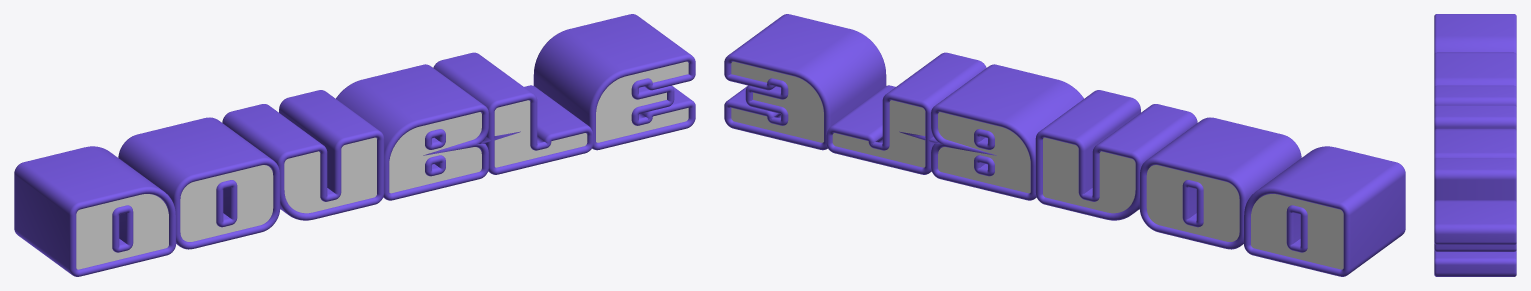
The model's file is double.fbx.
The picture shows the model from 3 angles, left to right: view 1: azimuth 30°, elevation 25°; view 2: azimuth 150°, elevation 25°; view 3: azimuth 270°, elevation 25°; orthographic projection. The views are drawn at different scales.
Visible parts, largest first — view 1: Text.001, Text; view 2: Text.001, Text; view 3: Text.001.
Boxes of the visible parts, bbox=[...] form: Text.001: bbox=[14, 14, 695, 276]; Text: bbox=[76, 61, 688, 269]; Text.001: bbox=[724, 14, 1405, 276]; Text: bbox=[731, 61, 1343, 269]; Text.001: bbox=[1434, 14, 1516, 276].
Size of the model in its own units: 569 by 64.33 by 92.
